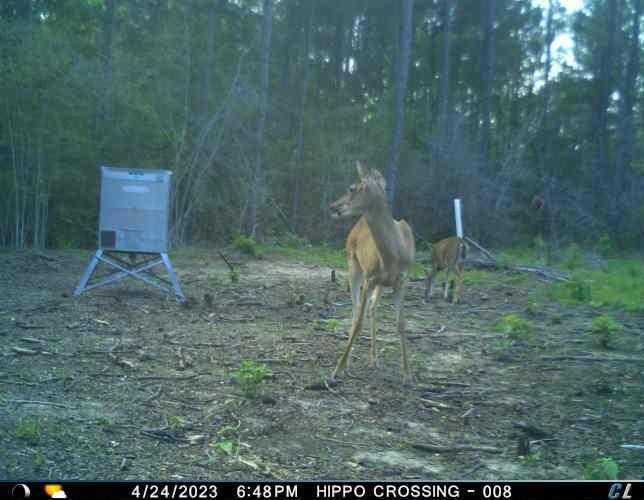Deer: (326, 156, 416, 389), (421, 232, 471, 306)
